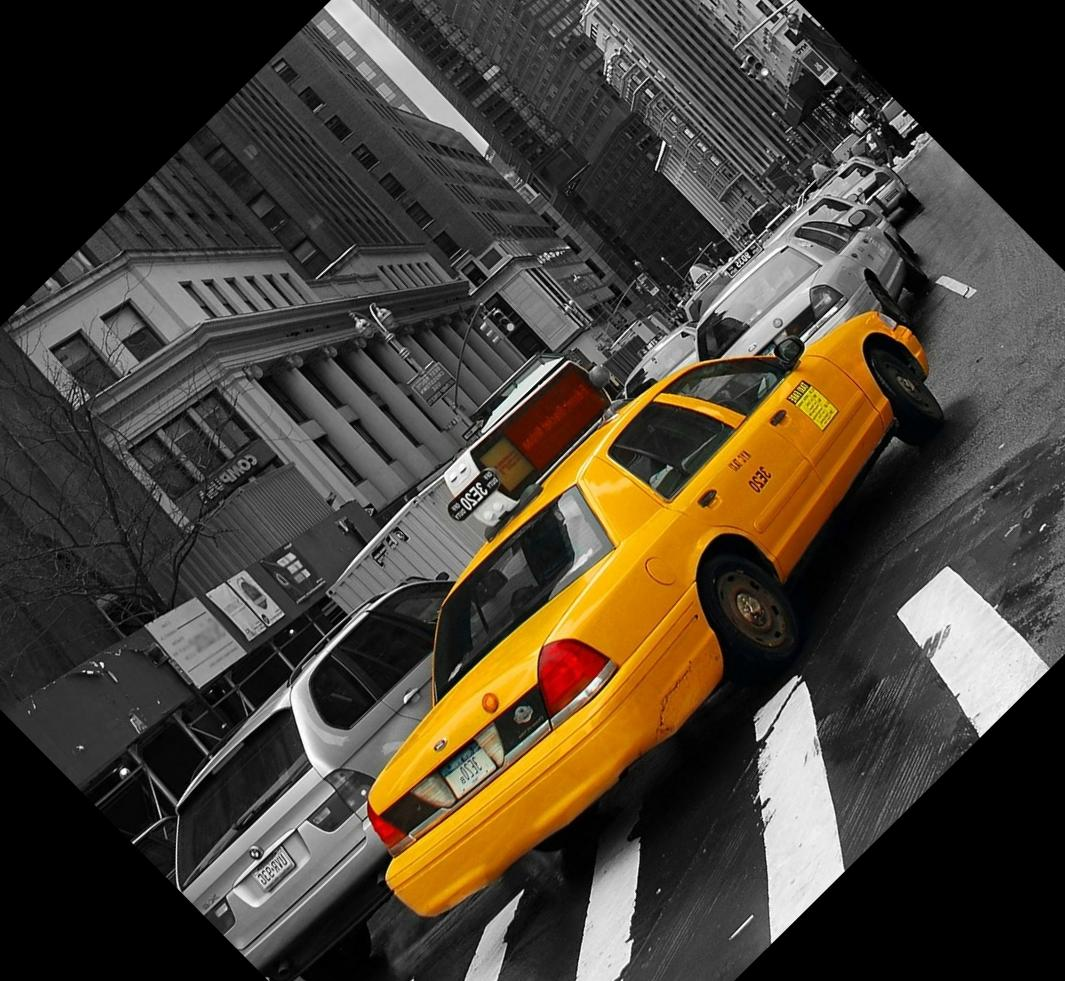taxi: (362, 325, 931, 929)
